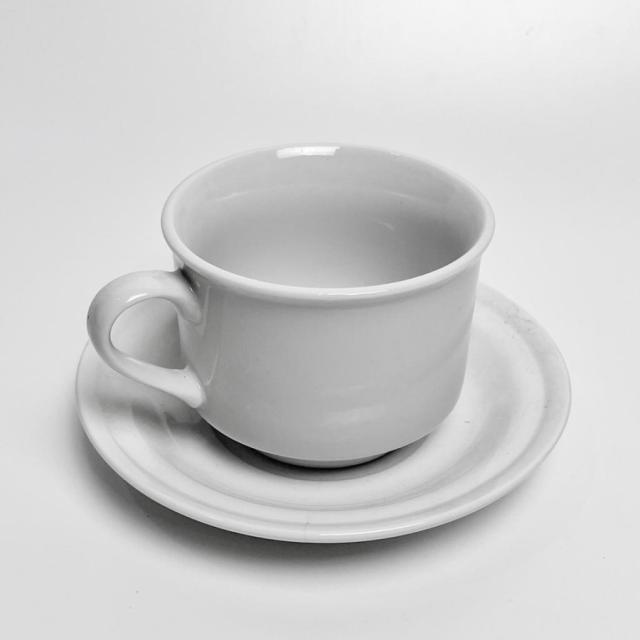Cangkir: (76, 118, 502, 478)
Piring: (41, 282, 574, 554)
